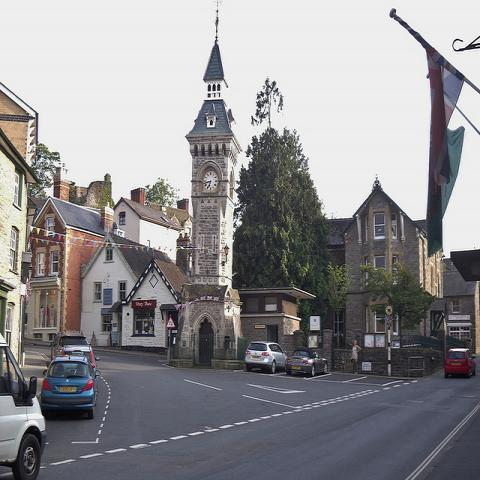car: (0, 332, 47, 480), (38, 350, 99, 418), (50, 331, 100, 369), (244, 340, 288, 373), (443, 346, 477, 378), (286, 350, 327, 376)
